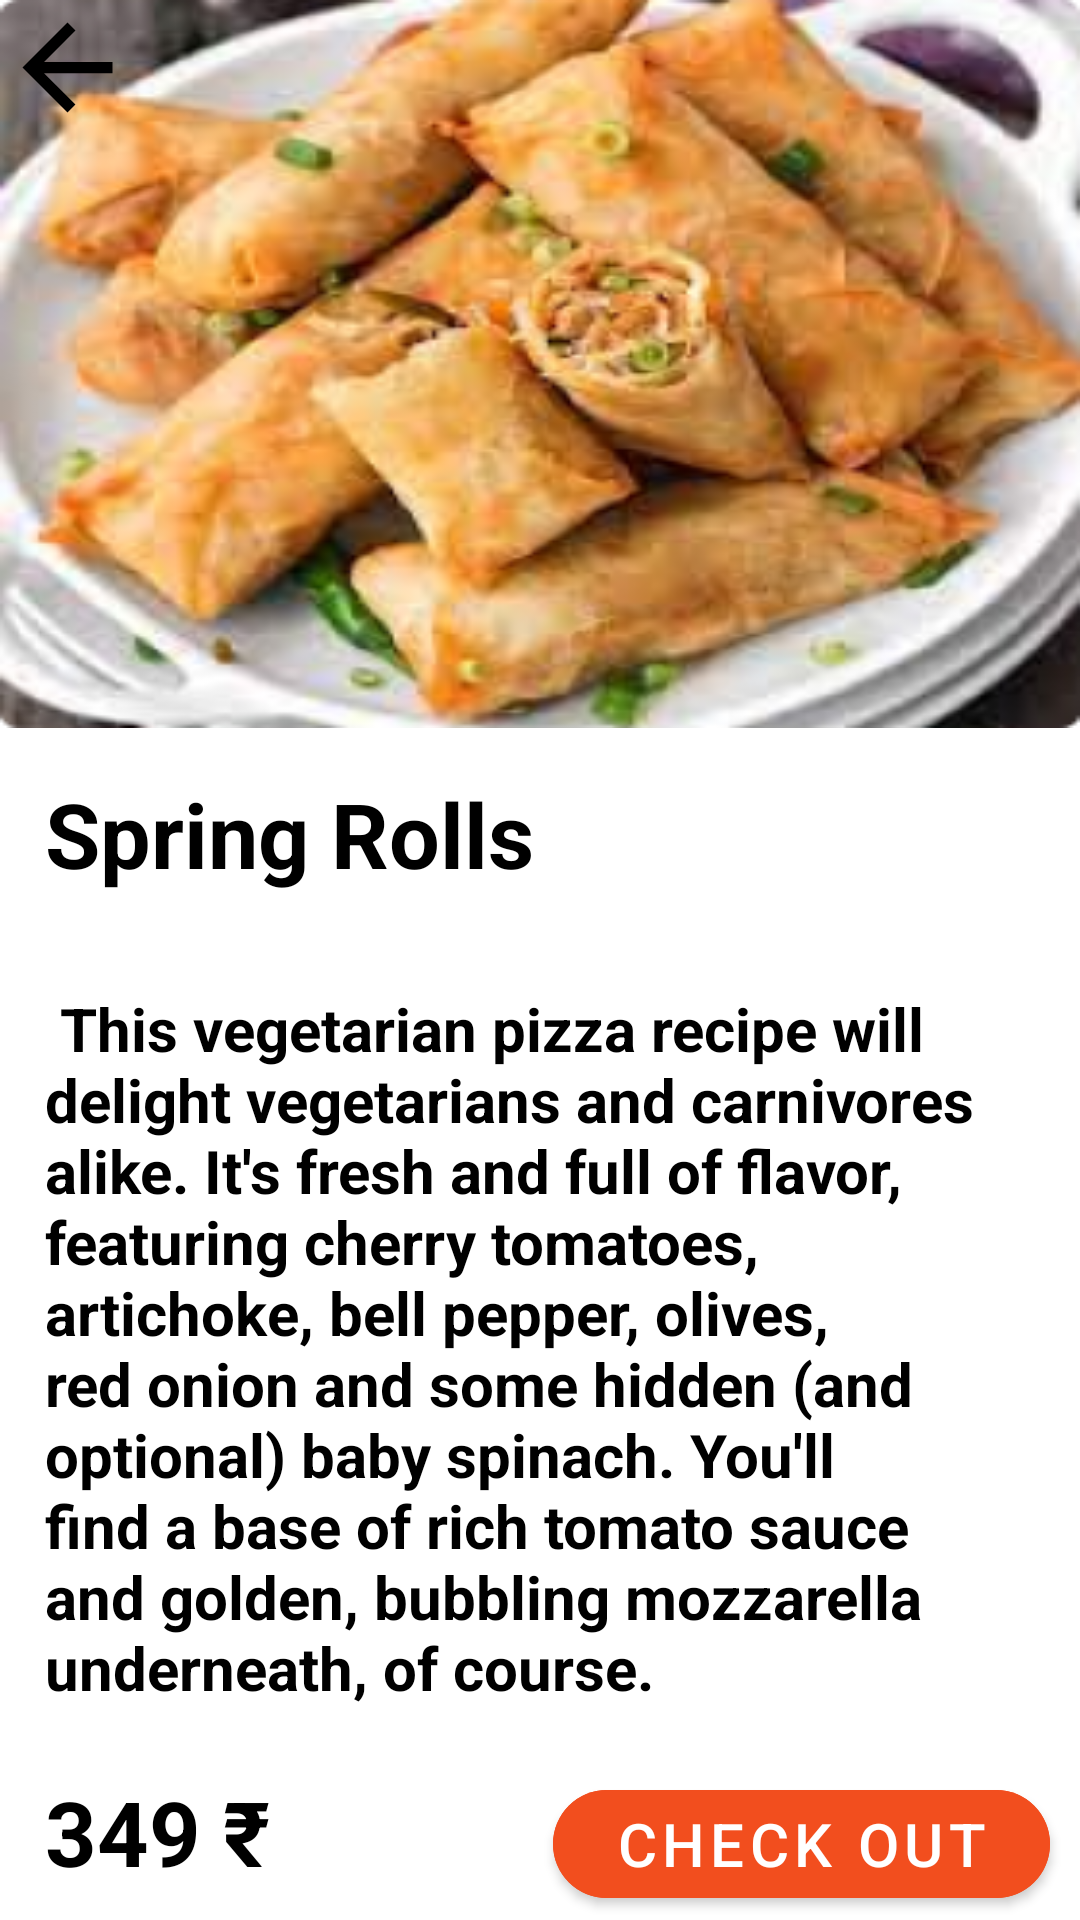

Screen size 1080px×1920px. Icon name, then its center in pixels as point (x, y):
back: point (67, 67)
